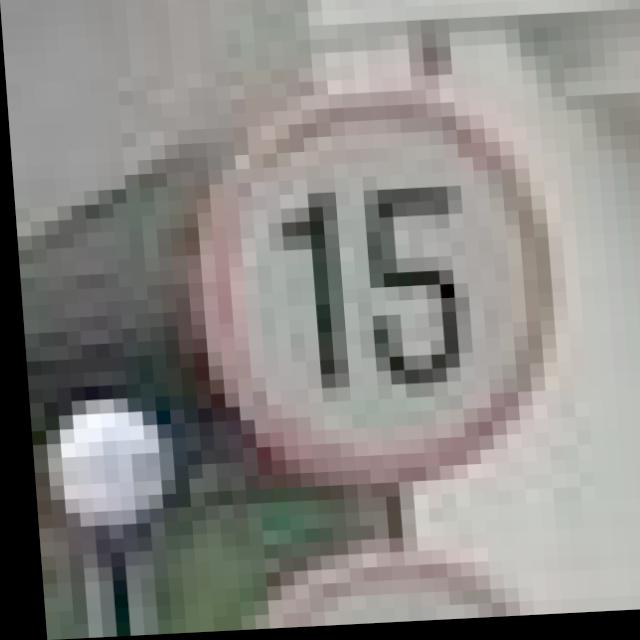SPEED_LIMIT_15: (166, 78, 577, 507)
